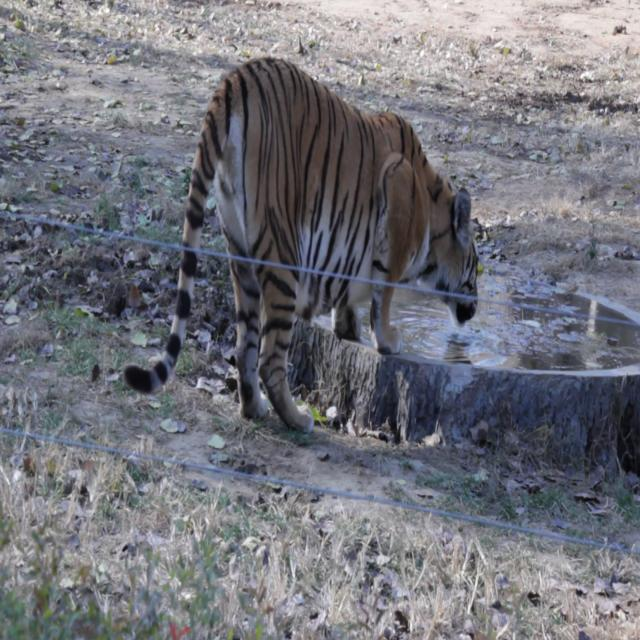Tiger: (112, 41, 487, 472)
